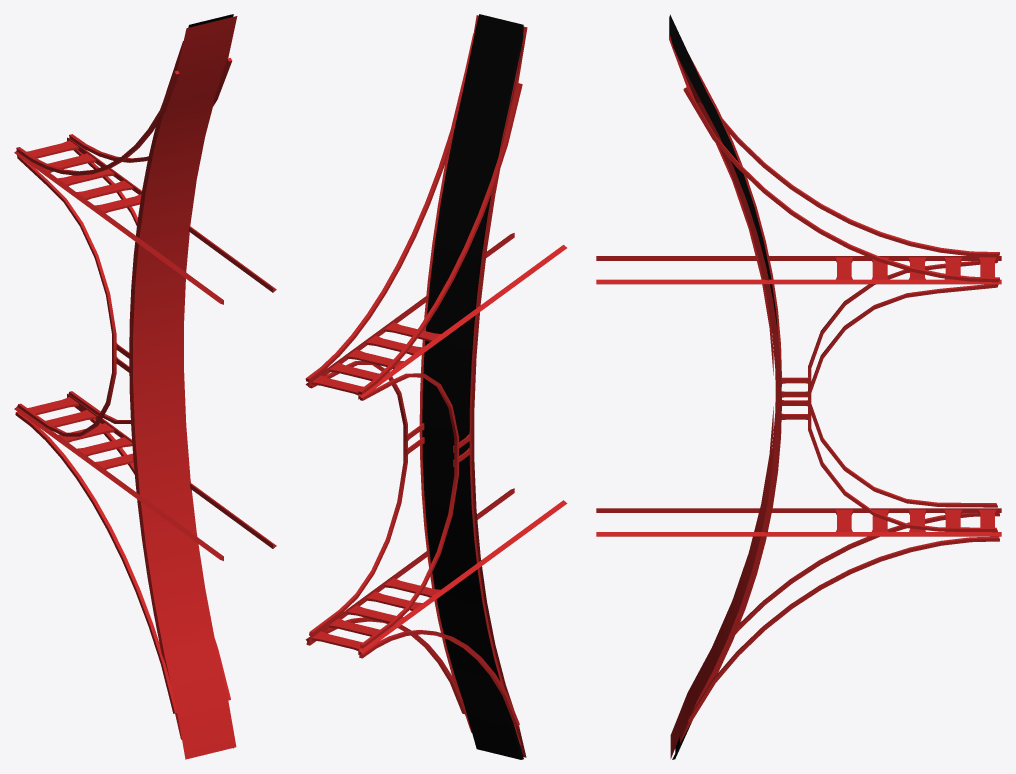
Rendered from bridge.obj.
3 renders of one model, left to right at view 1: azimuth 30°, elevation 25°; view 2: azimuth 150°, elevation 25°; view 3: azimuth 270°, elevation 25°, orthographic.
Parts seen in each view (by area): view 1: pPlane1, polySurface56 polySurface55, polySurface55 polySurface76, polySurface55 polySurface72, polySurface55 polySurface60, polySurface55 polySurface59, polySurface55 polySurface75, polySurface55 polySurface57, polySurface55 polySurface58, polySurface55 polySurface74, polySurface55 polySurface77, polySurface55 polySurface70 (+2 smaller); view 2: polySurface55 polySurface71, polySurface56 polySurface55, pPlane1, polySurface55 polySurface75, polySurface55 polySurface76, polySurface55 polySurface74, polySurface55 polySurface77, polySurface55 polySurface60, polySurface55 polySurface59, polySurface55 polySurface72, polySurface55 polySurface58, polySurface55 polySurface57 (+3 smaller); view 3: polySurface56 polySurface55, pPlane1, polySurface55 polySurface77, polySurface55 polySurface57, polySurface55 polySurface71, polySurface55 polySurface74, polySurface55 polySurface73, polySurface55 polySurface58, polySurface55 polySurface76, polySurface55 polySurface75, polySurface55 polySurface60, polySurface55 polySurface59 (+1 smaller).
Part boxes in pixels (x1,y1,x2,y2): pPlane1: [133, 16, 237, 759]; polySurface56 polySurface55: [129, 41, 183, 739]; polySurface55 polySurface76: [17, 155, 116, 436]; polySurface55 polySurface72: [15, 411, 177, 713]; polySurface55 polySurface60: [14, 406, 223, 560]; polySurface55 polySurface59: [14, 151, 223, 304]; polySurface55 polySurface75: [16, 70, 179, 175]; polySurface55 polySurface57: [67, 137, 276, 292]; polySurface55 polySurface58: [67, 394, 276, 548]; polySurface55 polySurface74: [69, 58, 232, 162]; polySurface55 polySurface77: [68, 150, 137, 423]; polySurface55 polySurface70: [76, 180, 133, 199]; polySurface55 polySurface71: [422, 14, 523, 759]; polySurface56 polySurface55: [419, 33, 523, 744]; pPlane1: [471, 15, 527, 757]; polySurface55 polySurface75: [358, 83, 522, 394]; polySurface55 polySurface76: [360, 373, 458, 648]; polySurface55 polySurface74: [305, 81, 462, 381]; polySurface55 polySurface77: [309, 361, 407, 636]; polySurface55 polySurface60: [358, 500, 567, 654]; polySurface55 polySurface59: [358, 245, 566, 399]; polySurface55 polySurface72: [359, 630, 519, 726]; polySurface55 polySurface58: [305, 488, 514, 642]; polySurface55 polySurface57: [305, 233, 514, 387]; polySurface56 polySurface55: [676, 54, 781, 742]; pPlane1: [669, 16, 773, 758]; polySurface55 polySurface77: [808, 284, 998, 532]; polySurface55 polySurface57: [596, 279, 1001, 284]; polySurface55 polySurface71: [670, 14, 777, 759]; polySurface55 polySurface74: [683, 87, 999, 282]; polySurface55 polySurface73: [687, 536, 999, 722]; polySurface55 polySurface58: [596, 532, 1001, 536]; polySurface55 polySurface76: [808, 259, 998, 507]; polySurface55 polySurface75: [721, 118, 999, 256]; polySurface55 polySurface60: [596, 508, 1001, 512]; polySurface55 polySurface59: [596, 256, 1001, 260].
Bounding box in the file's own units: 0.7729 × 9.42 × 4.78.
